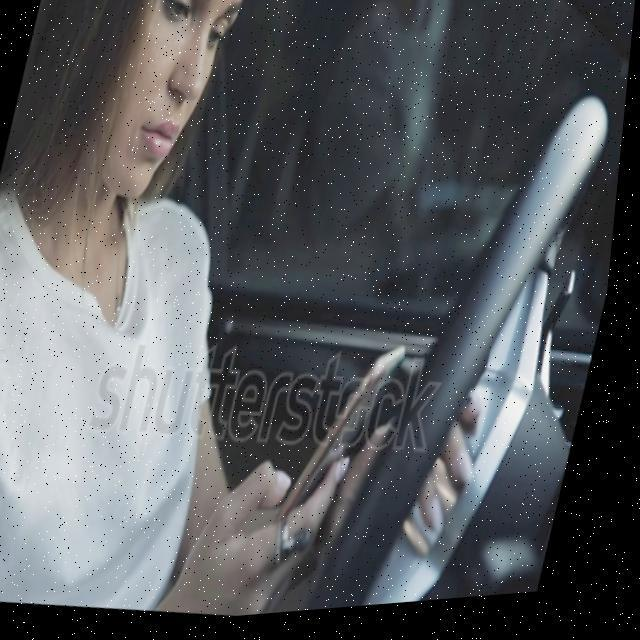PhoneCall: (290, 343, 416, 541)
